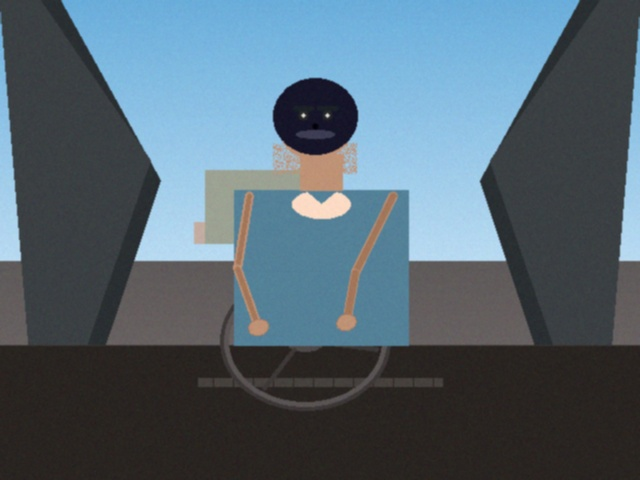normal_driving: (103, 181, 305, 341)
